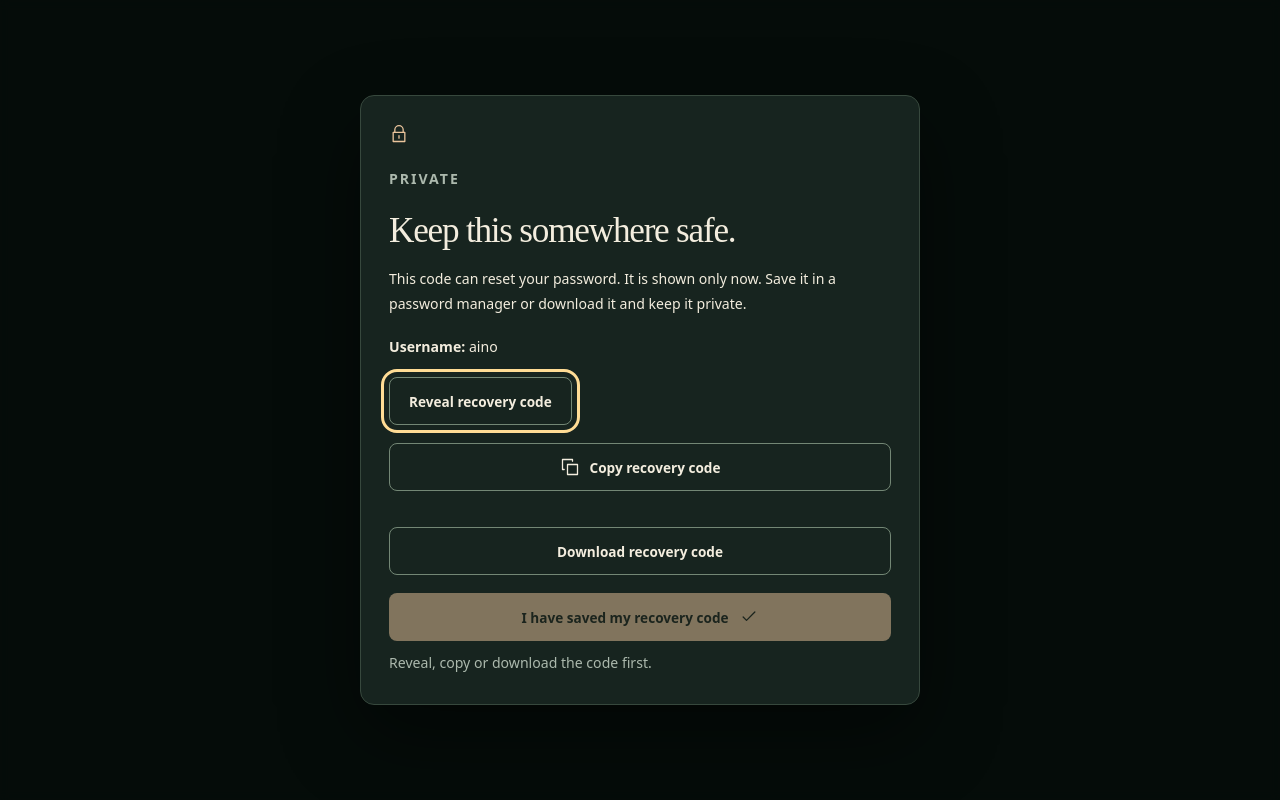
Test: lets the recovery dialog close after the code was copied
The image size is (1280, 800).
Later steps or results of the test are not shown.
Step 1. Click the button "Copy recovery code" → {"x": 640, "y": 467}, box [389,443,891,491]
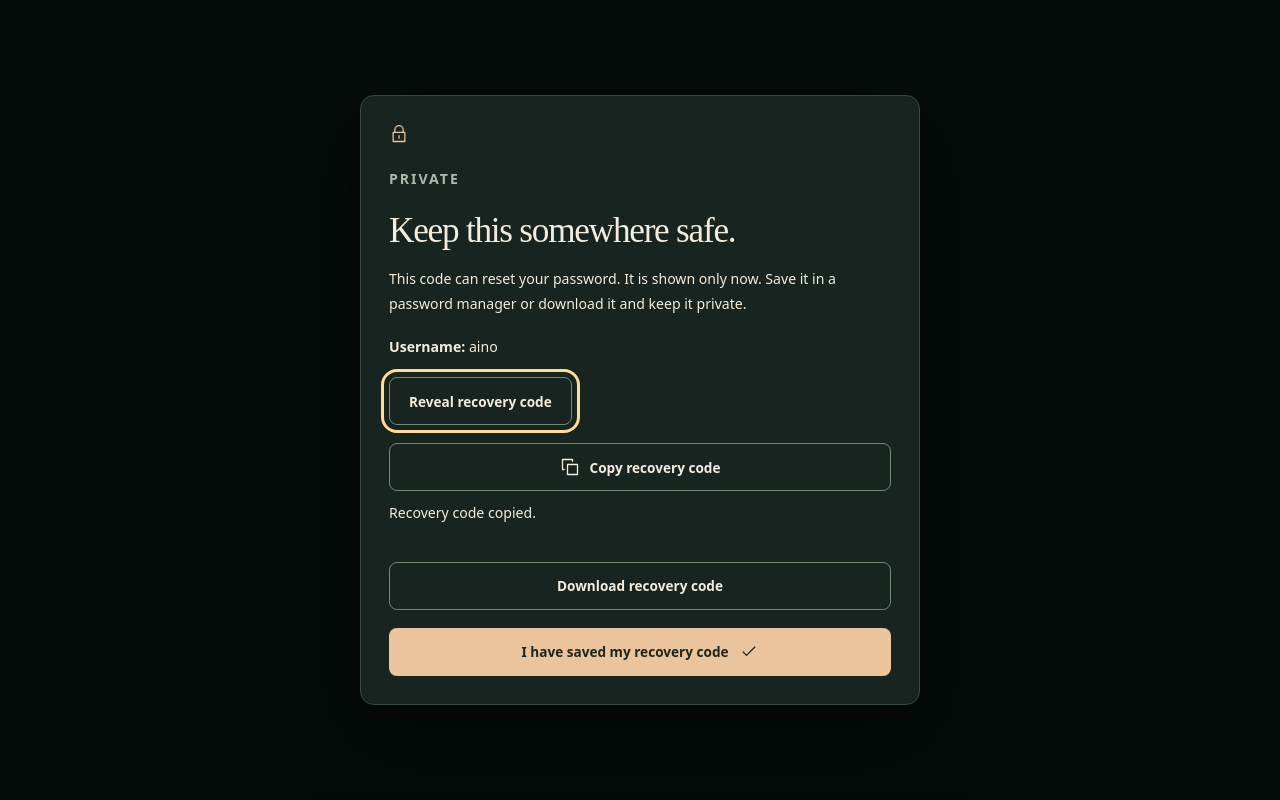
Result: the text "Recovery code copied." is shown at [389,503,536,522]
